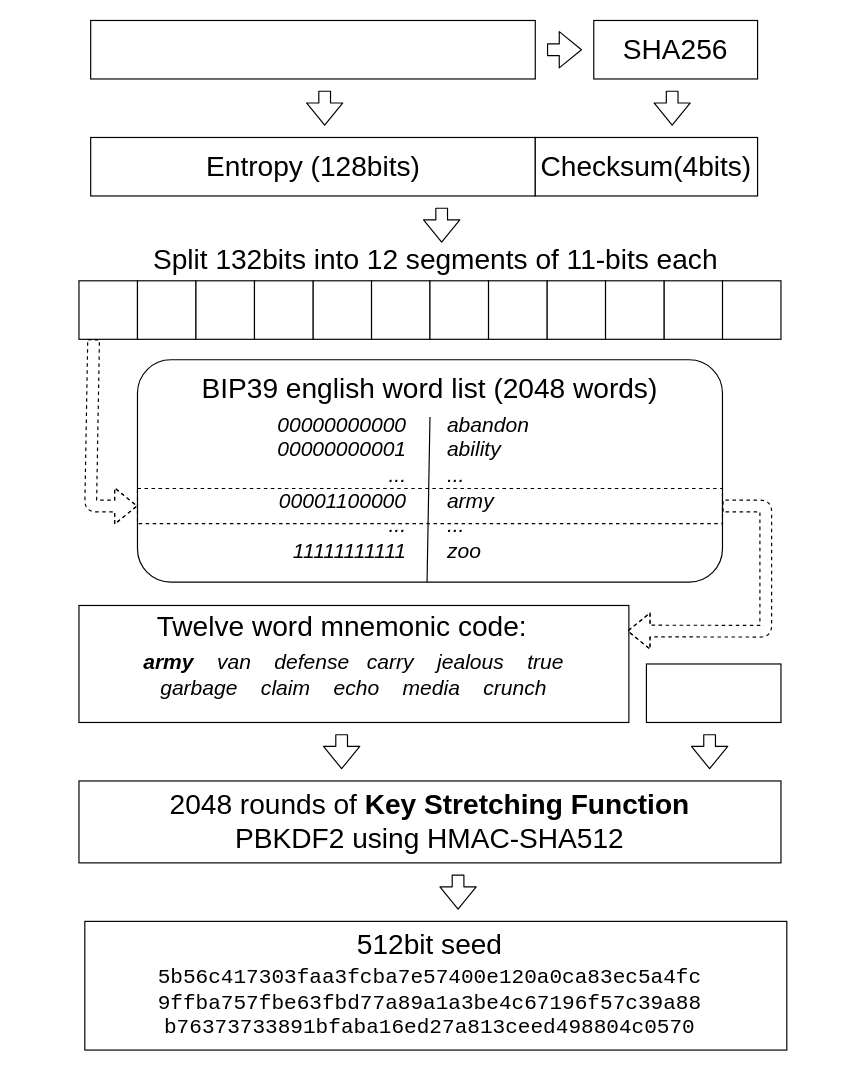
Some shapes in this 859 by 1080 pixel diagram are drawn without their labels. Here are the shapes that lost their labels. From the top down, the box of each, then its label:
(90, 19, 535, 79): Generate entropy (128bits)
(645, 663, 781, 722): Salt
